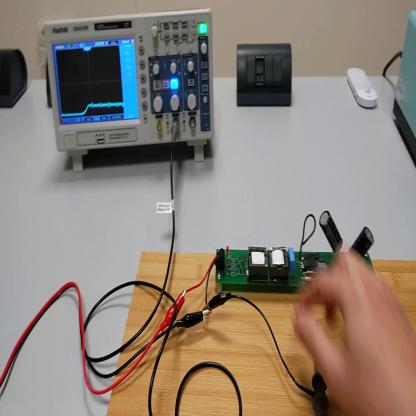hand: (290, 253, 416, 415)
high voltage board: (188, 210, 377, 318)
oscilloscope: (46, 9, 215, 173)
oscilloscope probe tip: (311, 360, 332, 416)
socket: (1, 49, 30, 111), (45, 56, 53, 110)
welder station: (396, 7, 416, 167)
working area: (108, 254, 416, 416)
